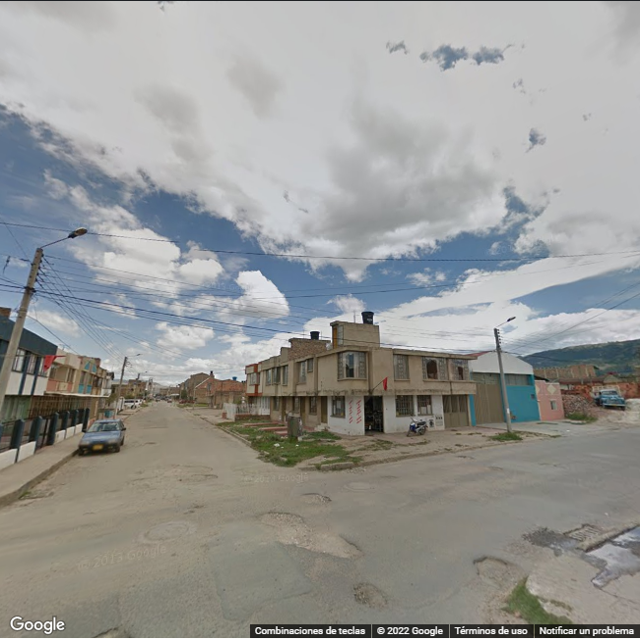D10: (107, 584, 121, 624)
D40: (250, 504, 354, 563), (348, 577, 392, 611), (471, 549, 510, 587)
